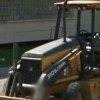Tractor: (14, 17, 100, 100)
